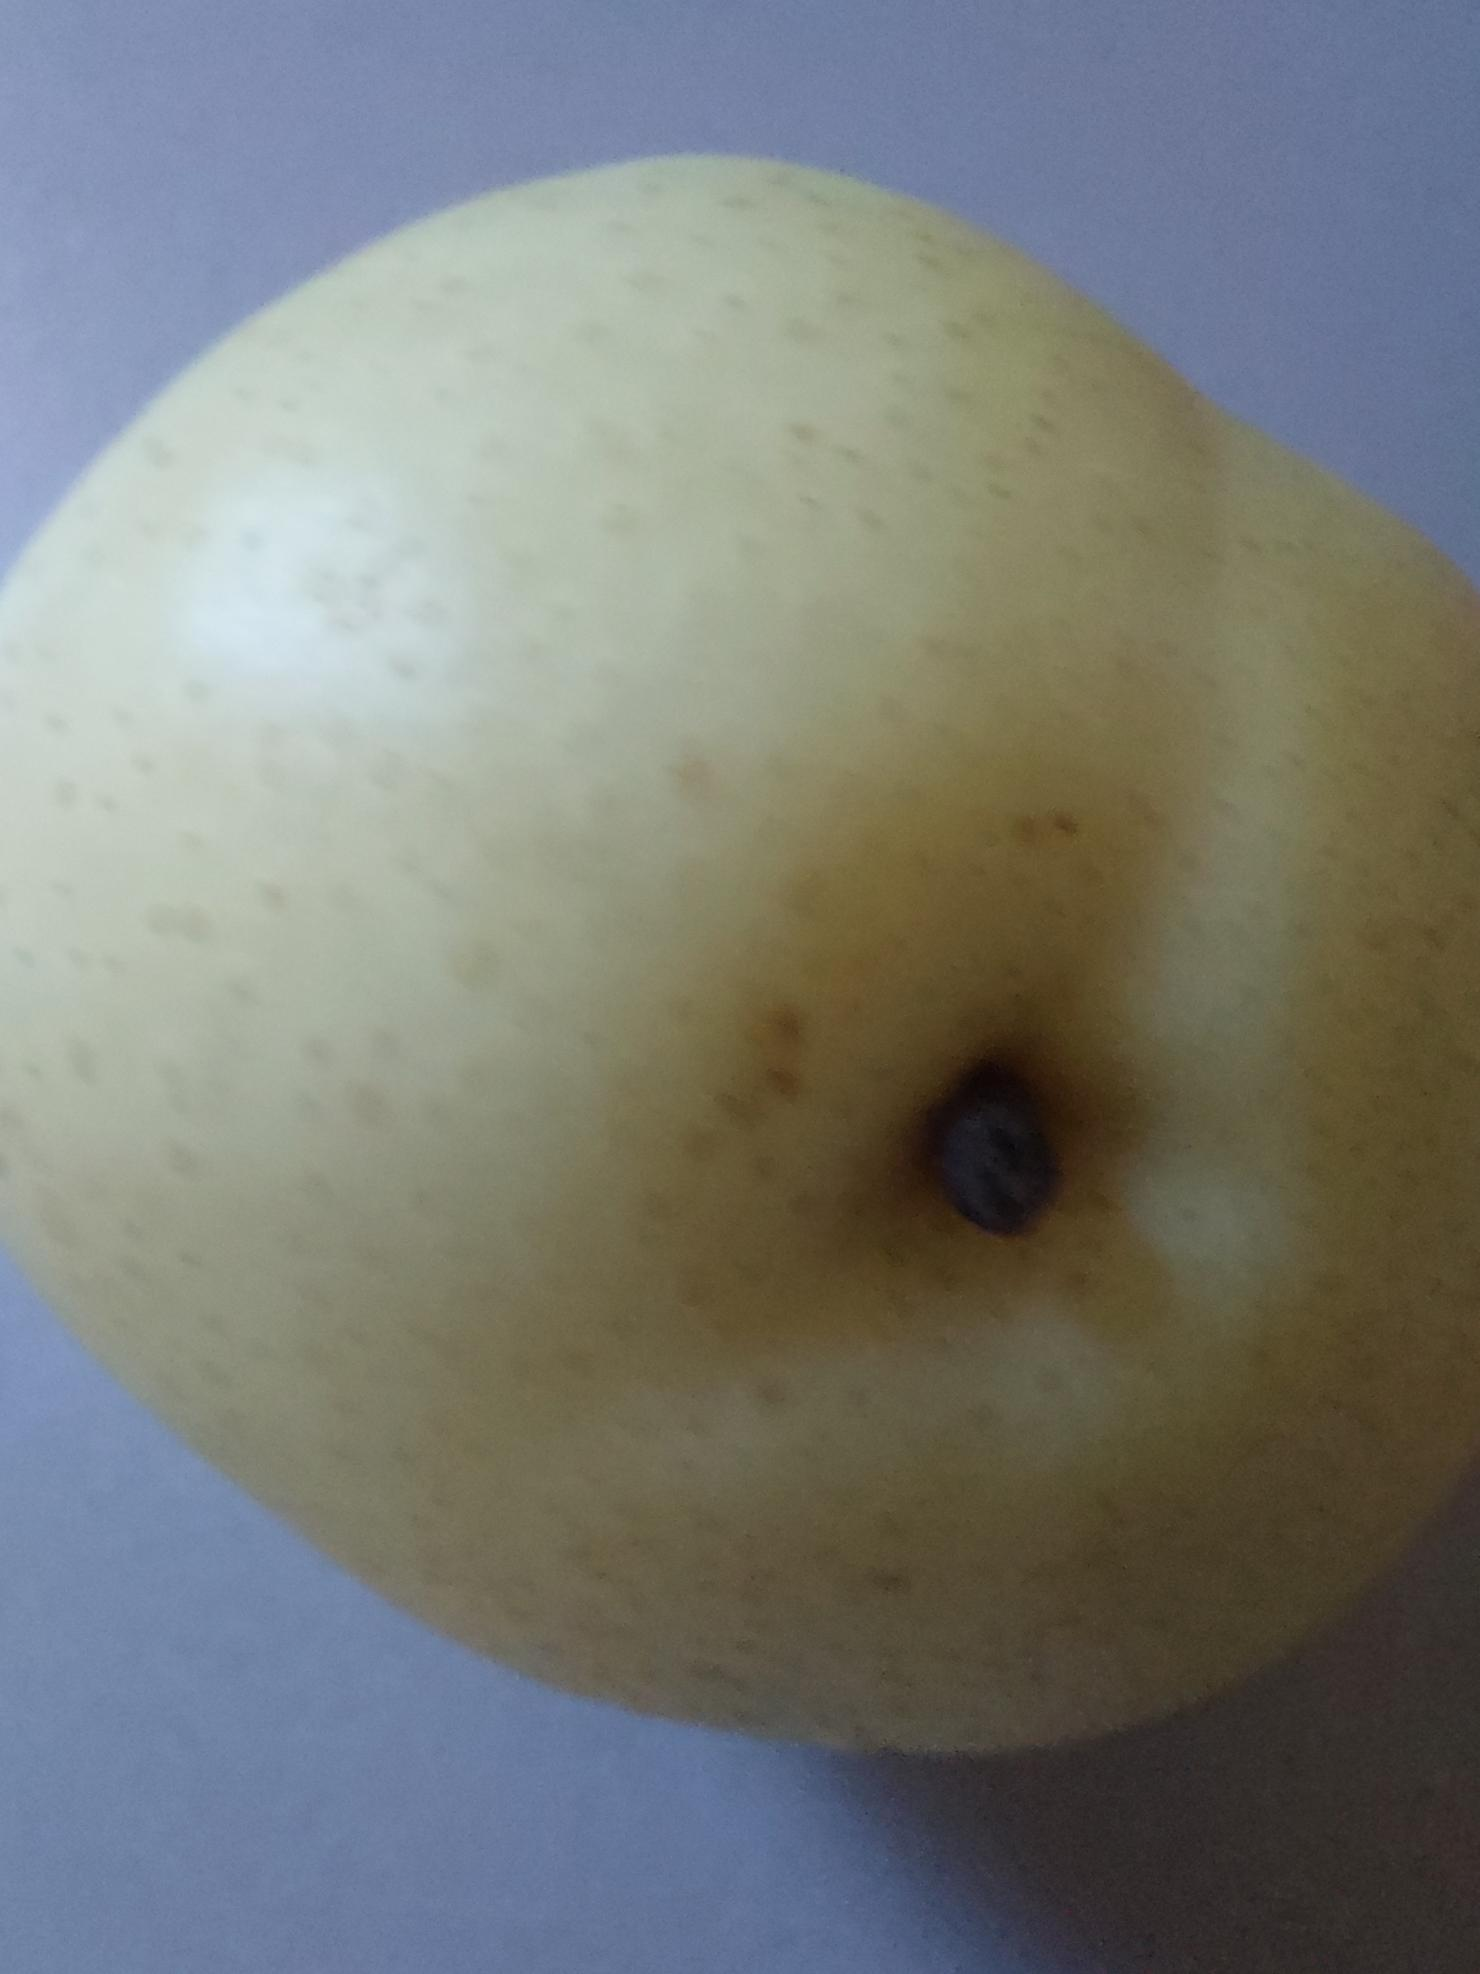Good Pear: (0, 129, 1480, 1798)
